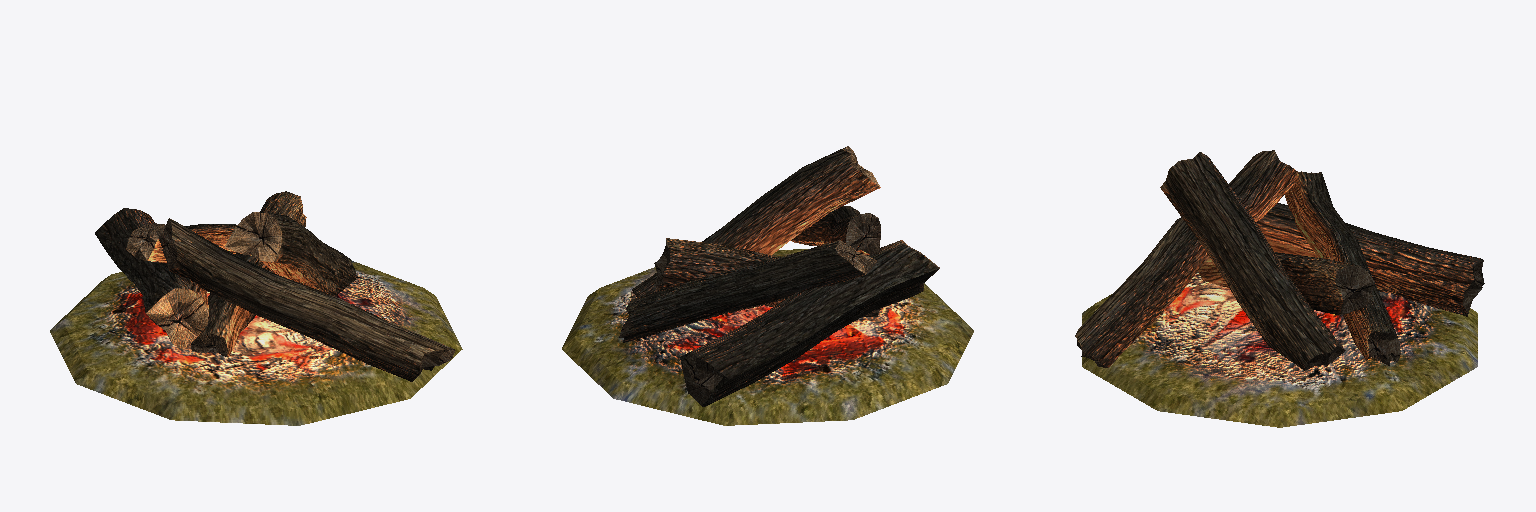
The picture shows the model from 3 angles: view 1: azimuth 30°, elevation 25°; view 2: azimuth 150°, elevation 25°; view 3: azimuth 270°, elevation 25°; orthographic projection.
Parts seen in each view (by area): view 1: polySurface6; view 2: polySurface6; view 3: polySurface6.
Part boxes in pixels (x1,y1,x2,y2): polySurface6: (50,191,462,425); polySurface6: (562,146,973,425); polySurface6: (1075,150,1484,427).
Bounding box in the file's own units: 1.92 × 0.8548 × 1.89.
1 materials, 1 textured.